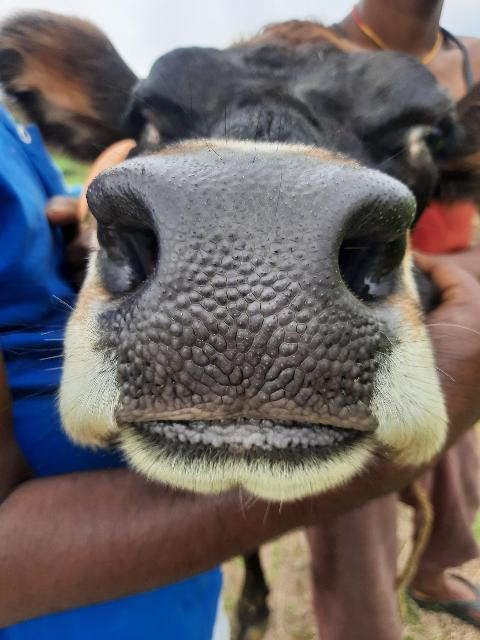Muzzle: (114, 162, 356, 426)
